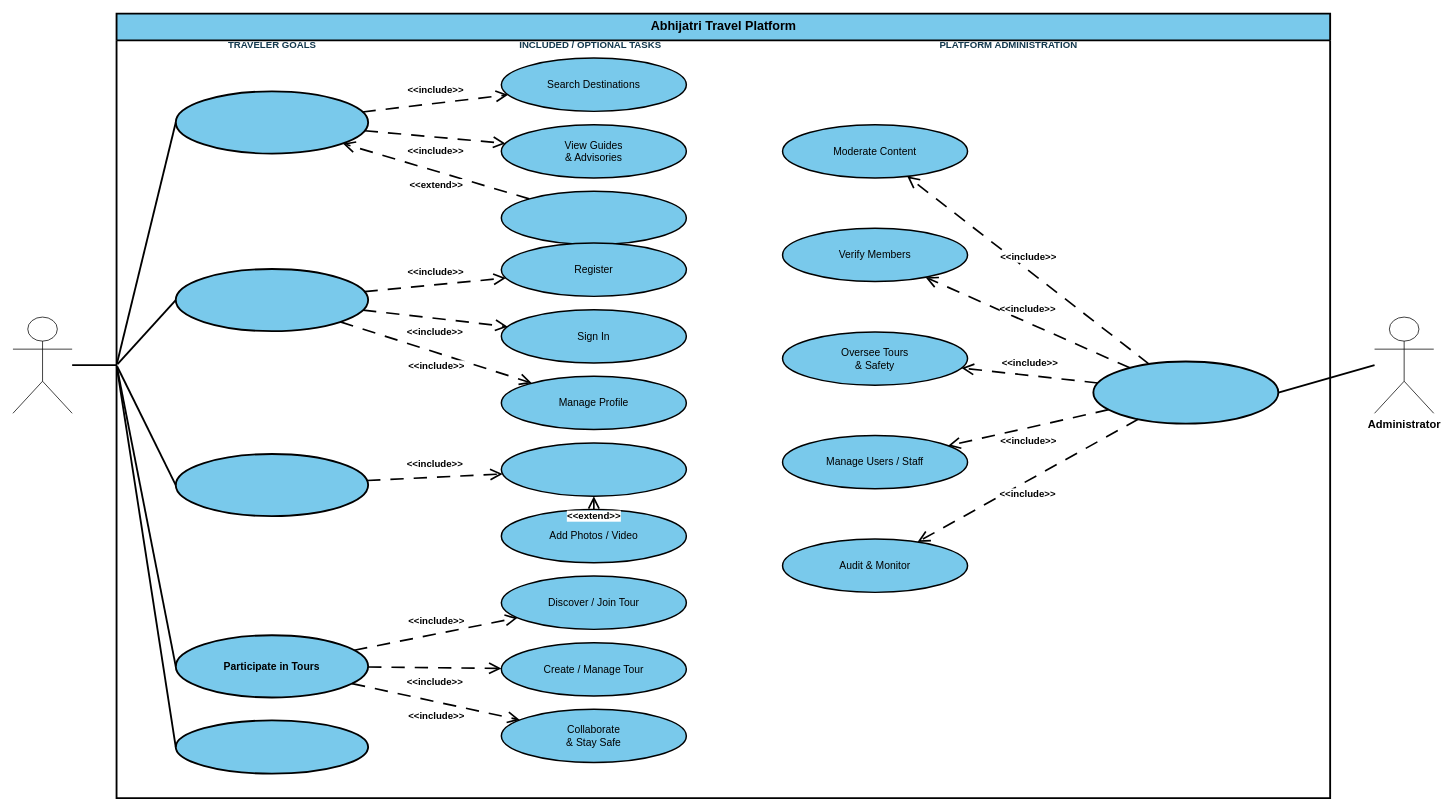
The diagram is 1453 pixels wide and 812 high, and some of its shapes have lost their labels. The centre of each missing label's shape, as x and y in pixels:
Browse Reviews & Ratings: point (593, 217)
Explore Destinations: point (271, 122)
Manage Account: point (271, 300)
Manage Platform: point (1185, 392)
Share Experience: point (271, 485)
Submit Review: point (593, 469)
Traveler: point (42, 364)
Use Offline Mode: point (271, 746)
